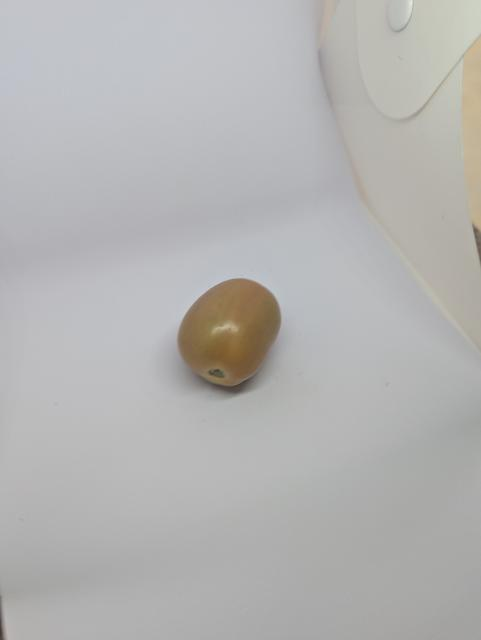turning: (173, 253, 288, 402)
